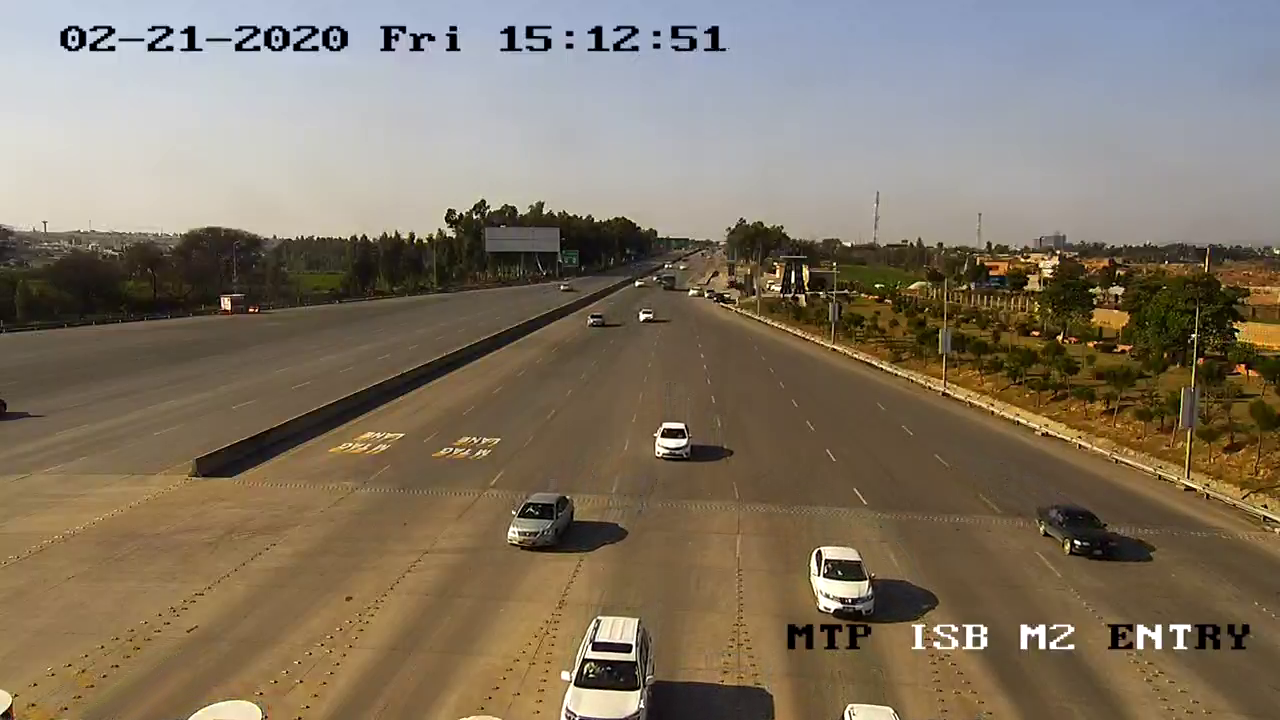f1: (556, 607, 662, 720), (800, 534, 886, 622), (1032, 494, 1129, 569), (499, 484, 582, 555), (645, 414, 703, 466)
